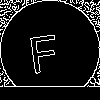F: (25, 25, 62, 74)
